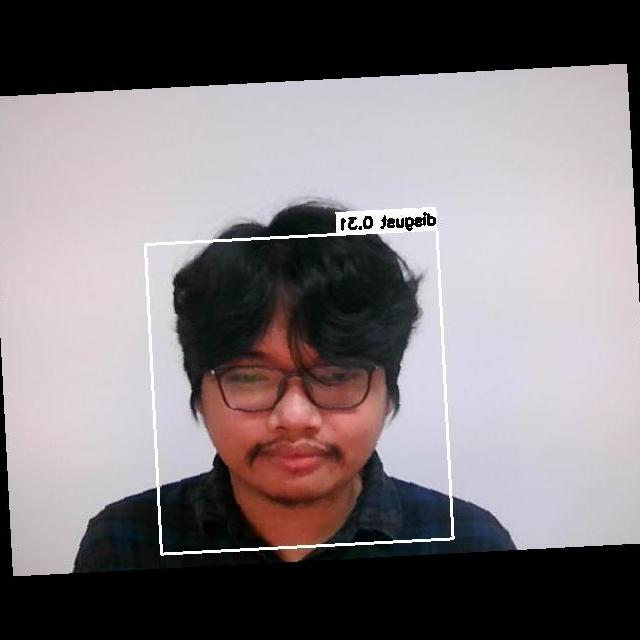Natural: (195, 324, 412, 474)
